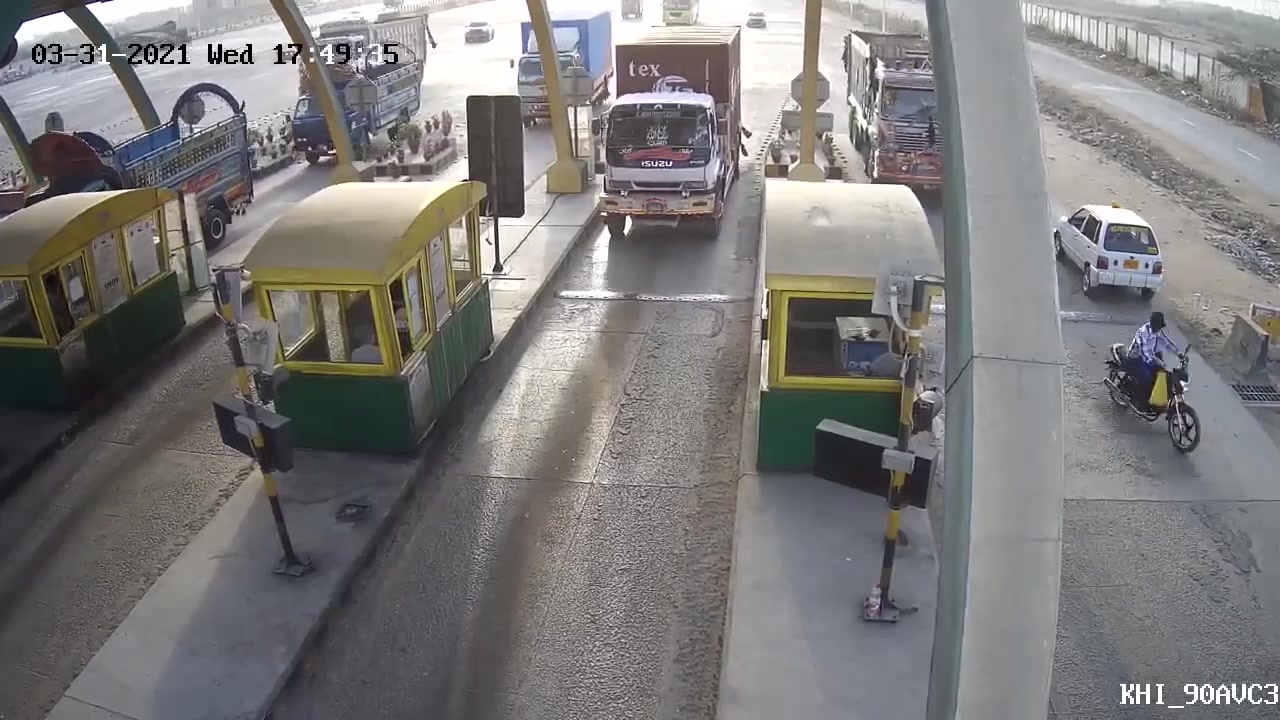F5: (596, 8, 750, 237)
